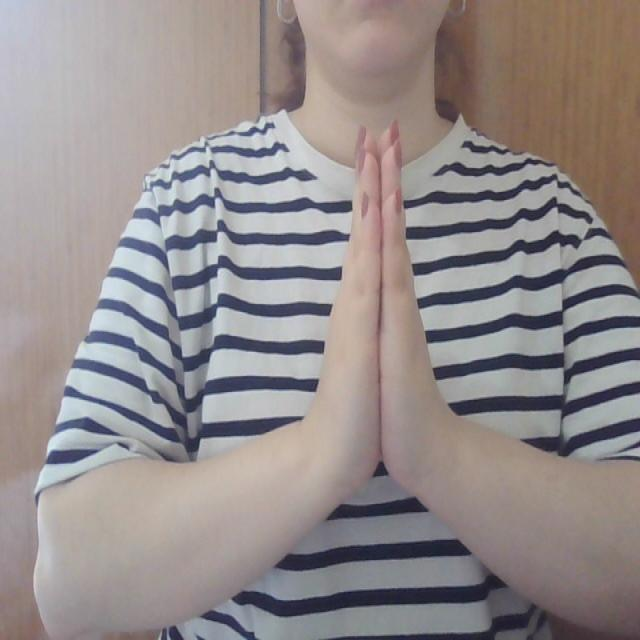Ozur-Dilemek: (310, 119, 461, 524)
